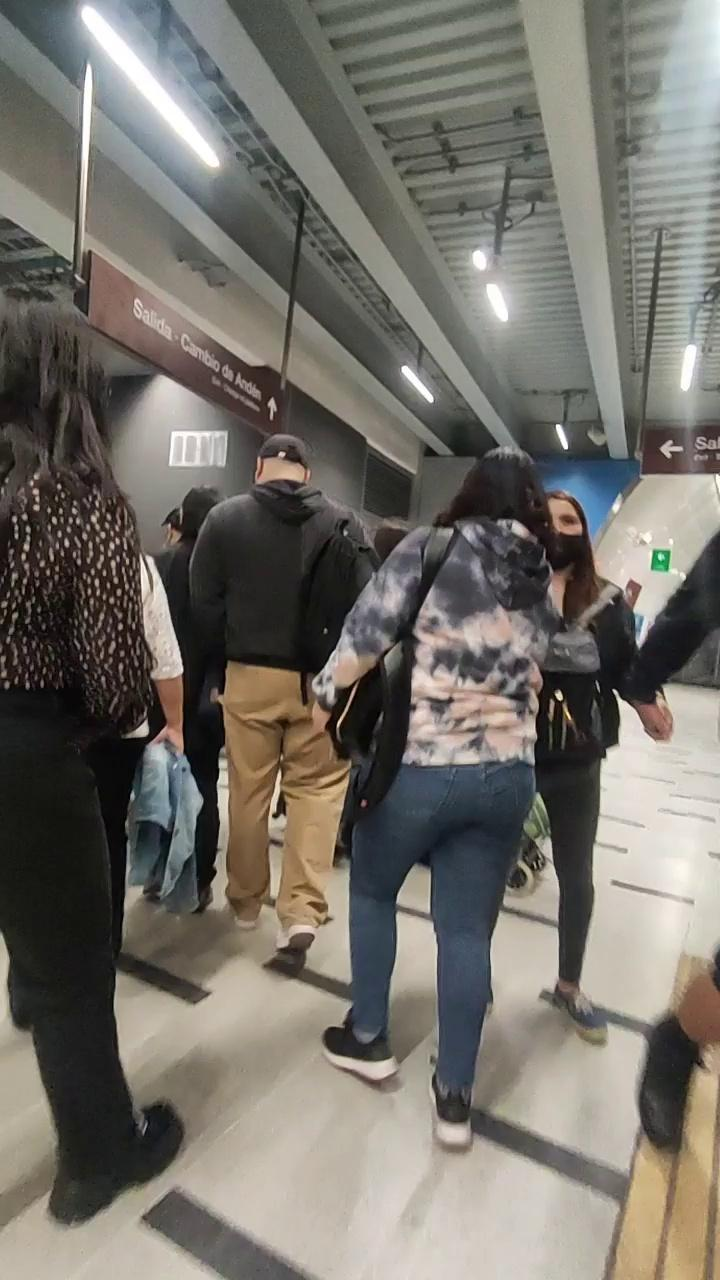left arrow: (656, 438, 688, 461)
up arrow: (264, 394, 278, 422)
